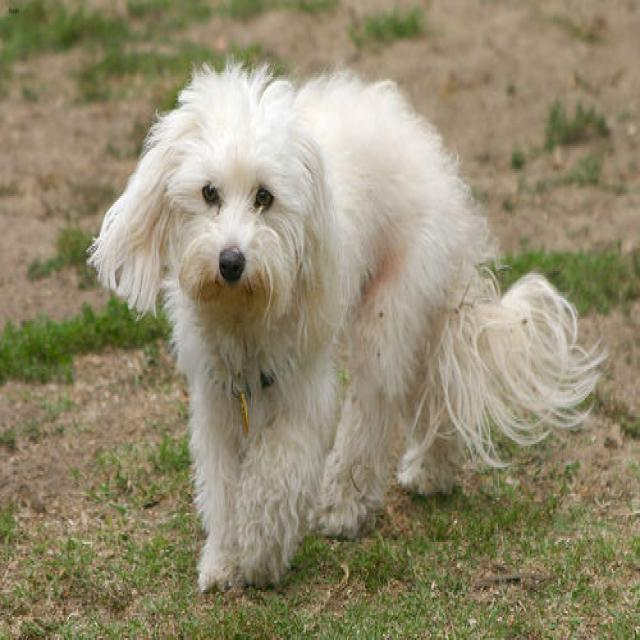dog-havanese: (79, 42, 607, 603)
